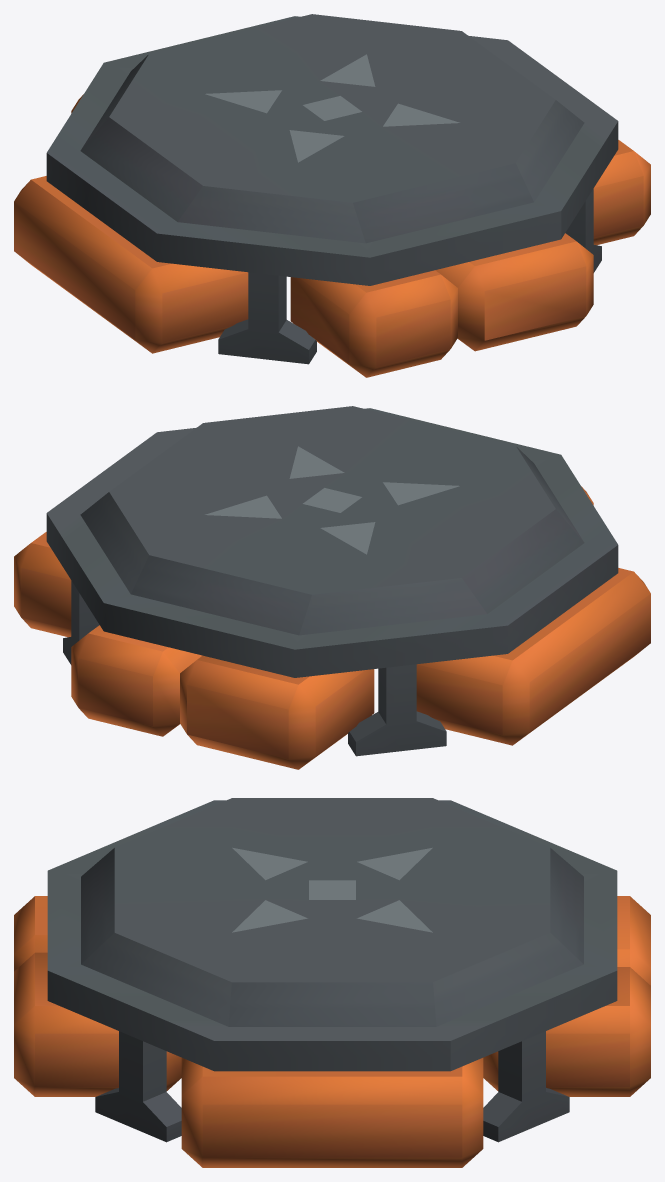
Rendered from kay-plataforma-pouso-pequena.gltf.
3 renders of one model, top to bottom at view 1: azimuth 30°, elevation 25°; view 2: azimuth 150°, elevation 25°; view 3: azimuth 270°, elevation 25°, orthographic. The views are drawn at different scales.
Parts seen in each view (by area): view 1: landingpad_small; view 2: landingpad_small; view 3: landingpad_small.
Part boxes in pixels (x1,y1,x2,y2): landingpad_small: (14,14,650,377); landingpad_small: (14,406,650,769); landingpad_small: (14,798,650,1167).
Size of the model in its own units: 4.94 by 1.3 by 4.94.
Materials: 1 (1 with a texture image).
